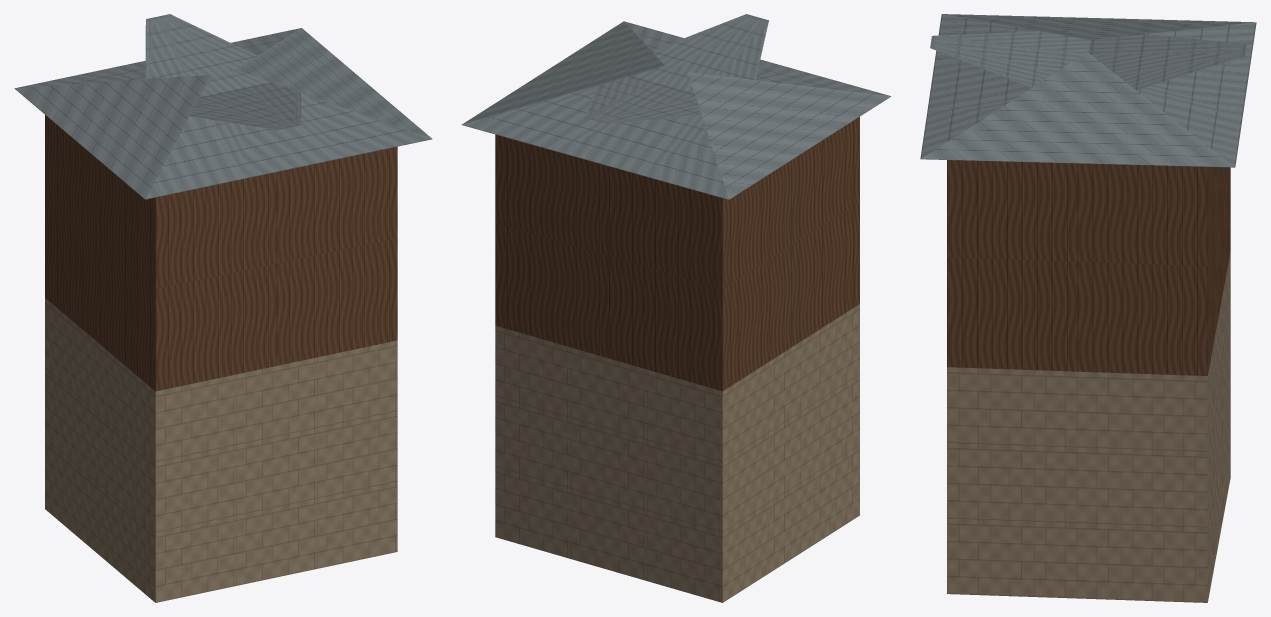
File: bld_c-7_-37_963.gltf
The picture shows the model from 3 angles, left to right: view 1: azimuth 30°, elevation 25°; view 2: azimuth 150°, elevation 25°; view 3: azimuth 270°, elevation 25°; orthographic projection. The views are drawn at different scales.
Parts seen in each view (by area): view 1: bld_c-7_-37_963; view 2: bld_c-7_-37_963; view 3: bld_c-7_-37_963.
Boxes of the visible parts, bbox=[...] form: bld_c-7_-37_963: bbox=[14, 14, 432, 602]; bld_c-7_-37_963: bbox=[461, 14, 890, 602]; bld_c-7_-37_963: bbox=[920, 14, 1256, 602].
Bounding box in the file's own units: 7.38 × 11 × 6.82.
Materials: 3 (3 with a texture image).
